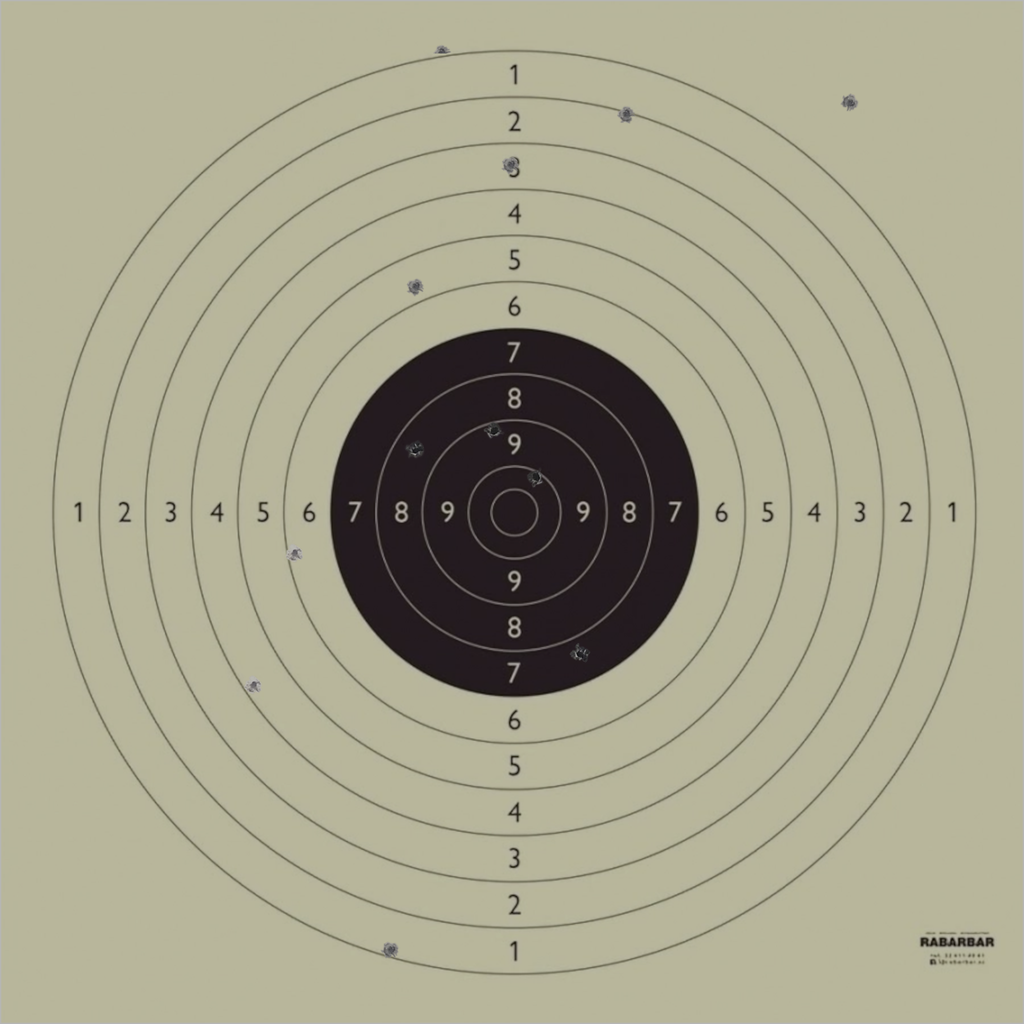0 punktow: (841, 94, 860, 112)
1 punkt: (382, 941, 400, 959)
10 punktow: (527, 468, 546, 487)
2 punkty: (617, 105, 636, 123)
3 punkty: (502, 156, 520, 174)
4 punkty: (245, 676, 263, 694)
5 punktow: (407, 277, 425, 296)
6 punktow: (286, 544, 304, 562)
7 punktow: (571, 645, 590, 664)
8 punktow: (406, 441, 424, 460)
9 punktow: (485, 422, 503, 440)
